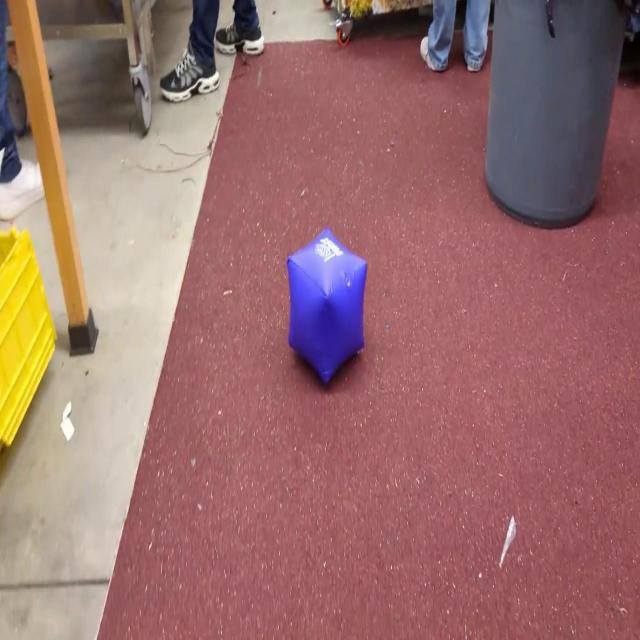frc_cube: (286, 225, 368, 388)
